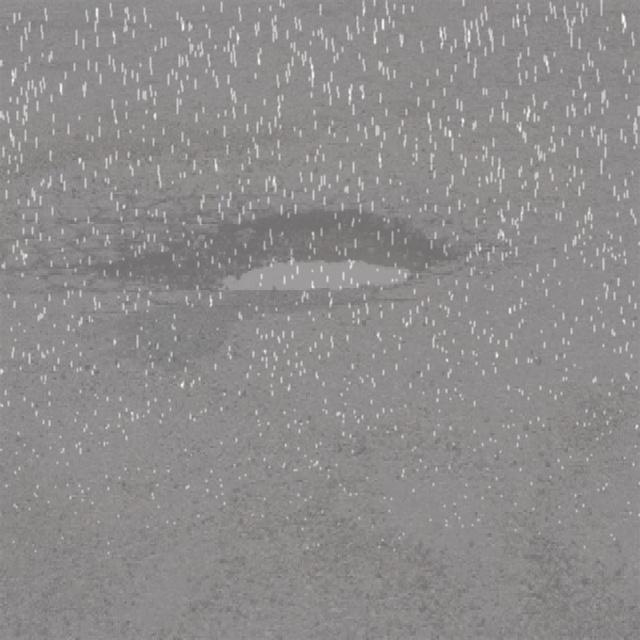Pothole: (63, 189, 464, 318)
